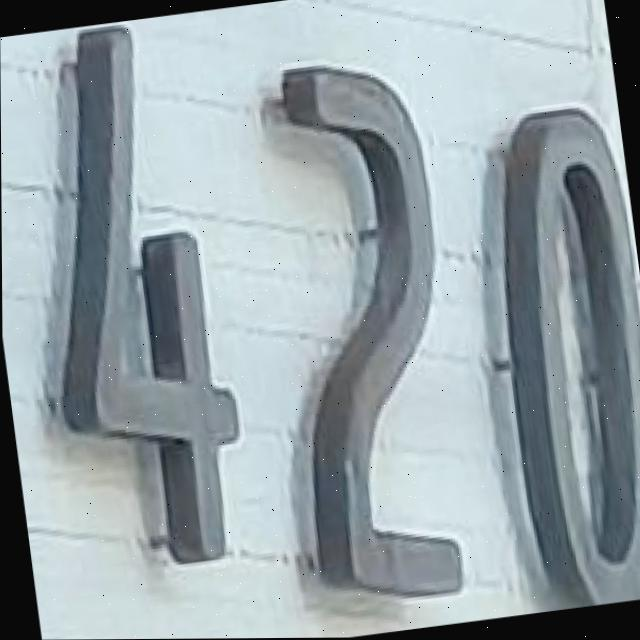character: (38, 11, 264, 580), (280, 47, 483, 611), (504, 89, 640, 608)
